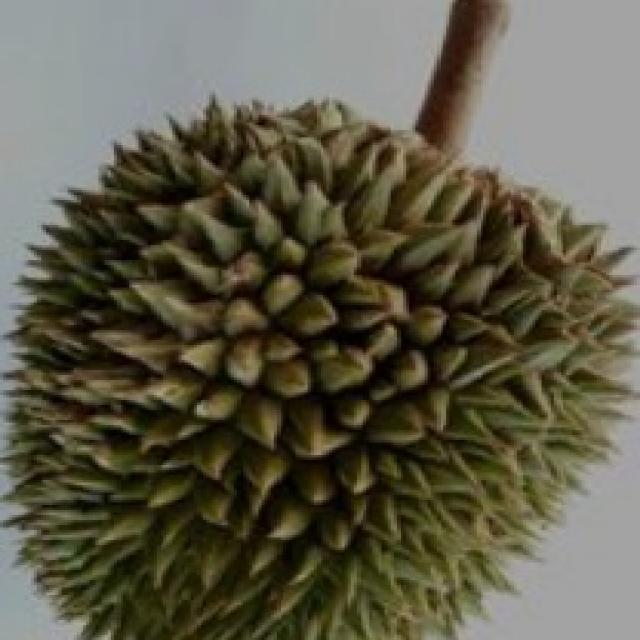fruit: (0, 42, 351, 500), (286, 257, 640, 640), (0, 275, 354, 640)
